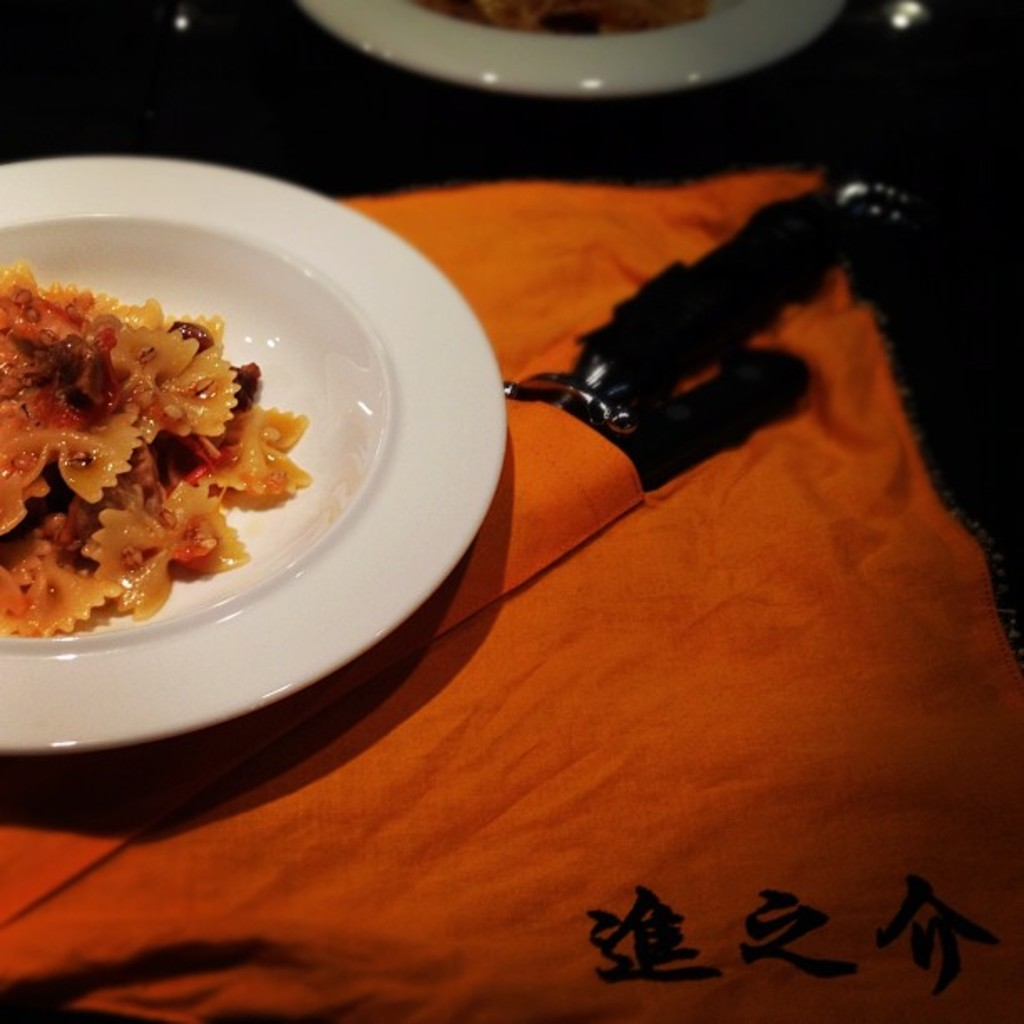plate: (0, 152, 506, 747)
